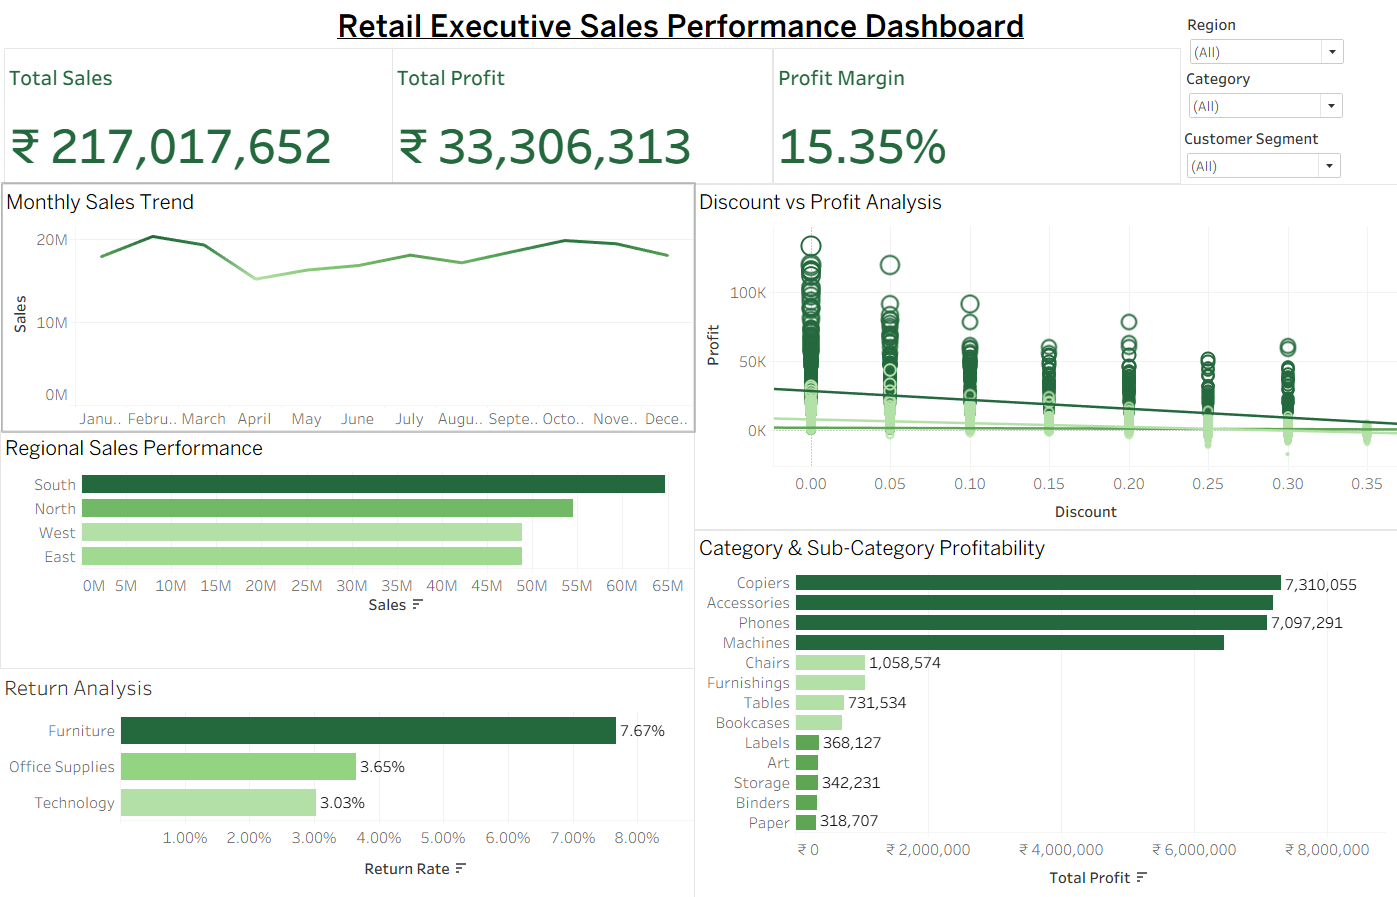

The page's visual inventory and layout, read from the dashboard file:
{"tool":"tableau","page":{"name":"Executive Dashboard","canvas":[1400,900],"ordinal":0},"visuals":[{"type":"text","box":[330,12,702,31]},{"type":"filter","title":"Regional Performance","param":"[federated.1fmx611030y73f16fmlp401sdcva].[none:region:nk]","box":[1187,15,160,58]},{"type":"worksheet","title":"KPI - Total Sales ","mark":"Automatic","box":[4,49,389,136]},{"type":"worksheet","title":"KPI - Total Profit","mark":"Automatic","box":[392,49,381,136]},{"type":"worksheet","title":"KPI - Profit Margin","mark":"Automatic","box":[773,49,408,136]},{"type":"filter","title":"Category Profitability","param":"[federated.1fmx611030y73f16fmlp401sdcva].[none:category:nk]","box":[1186,69,160,56]},{"type":"filter","title":"Category Profitability","param":"[federated.1fmx611030y73f16fmlp401sdcva].[none:customer_segment:nk]","box":[1184,129,160,55]},{"type":"worksheet","title":"Sales_Trend","mark":"Automatic","rows":["sales"],"cols":["order_date"],"box":[1,185,693,247]},{"type":"worksheet","title":"Discount vs Profit","mark":"Automatic","rows":["profit"],"cols":["discount"],"box":[694,185,706,346]},{"type":"worksheet","title":"Regional Performance","mark":"Automatic","rows":["region"],"cols":["sales"],"box":[0,431,695,239]},{"type":"worksheet","title":"Category Profitability","mark":"Automatic","rows":["sub_category"],"cols":["profit"],"box":[694,531,704,369]}]}

Visuals, with their boxes in screenshot pixels (x1, y1, x2, y2), scaled from the page's 1400x900 canvas onto the 1397x897 screenshot:
text: {"x1": 329, "y1": 12, "x2": 1030, "y2": 43}
"Regional Performance" filter: {"x1": 1184, "y1": 15, "x2": 1344, "y2": 73}
"KPI - Total Sales " worksheet: {"x1": 4, "y1": 49, "x2": 392, "y2": 184}
"KPI - Total Profit" worksheet: {"x1": 391, "y1": 49, "x2": 771, "y2": 184}
"KPI - Profit Margin" worksheet: {"x1": 771, "y1": 49, "x2": 1178, "y2": 184}
"Category Profitability" filter: {"x1": 1183, "y1": 69, "x2": 1343, "y2": 125}
"Category Profitability" filter: {"x1": 1181, "y1": 129, "x2": 1341, "y2": 183}
"Sales_Trend" worksheet: {"x1": 1, "y1": 184, "x2": 693, "y2": 431}
"Discount vs Profit" worksheet: {"x1": 693, "y1": 184, "x2": 1396, "y2": 529}
"Regional Performance" worksheet: {"x1": 0, "y1": 430, "x2": 694, "y2": 668}
"Category Profitability" worksheet: {"x1": 693, "y1": 529, "x2": 1395, "y2": 896}
